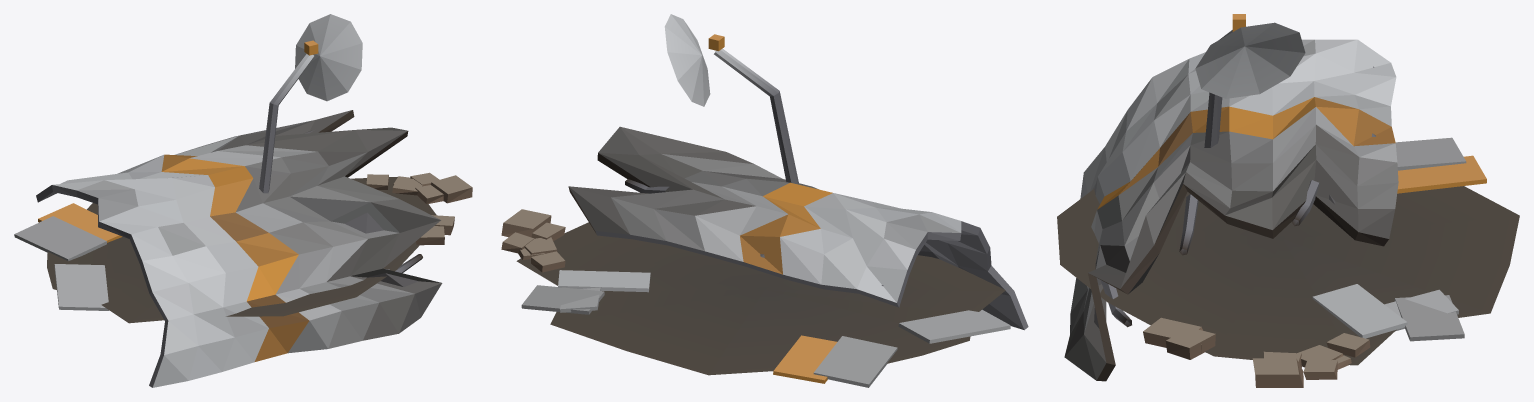
Rendered from wreck_antenna_a.glb.
3 renders of one model, left to right at view 1: azimuth 30°, elevation 25°; view 2: azimuth 150°, elevation 25°; view 3: azimuth 270°, elevation 25°, orthographic. The views are drawn at different scales.
Parts seen in each view (by area): view 1: wreck_antenna_a; view 2: wreck_antenna_a; view 3: wreck_antenna_a.
Part boxes in pixels (<box>): wreck_antenna_a: <box>14,14,472,387</box>; wreck_antenna_a: <box>501,14,1028,387</box>; wreck_antenna_a: <box>1057,14,1519,387</box>.
Size of the model in its own units: 3.34 by 1.96 by 2.39.
